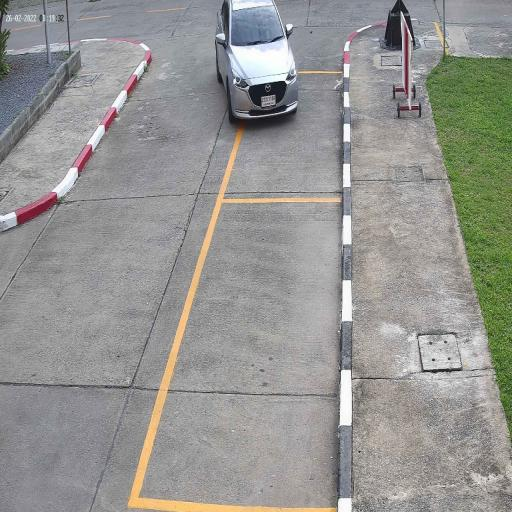car: (214, 0, 300, 125)
